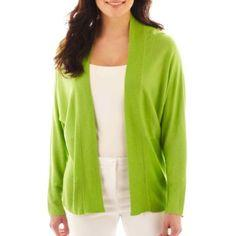S_cardigan sweater: (40, 25, 210, 221)
